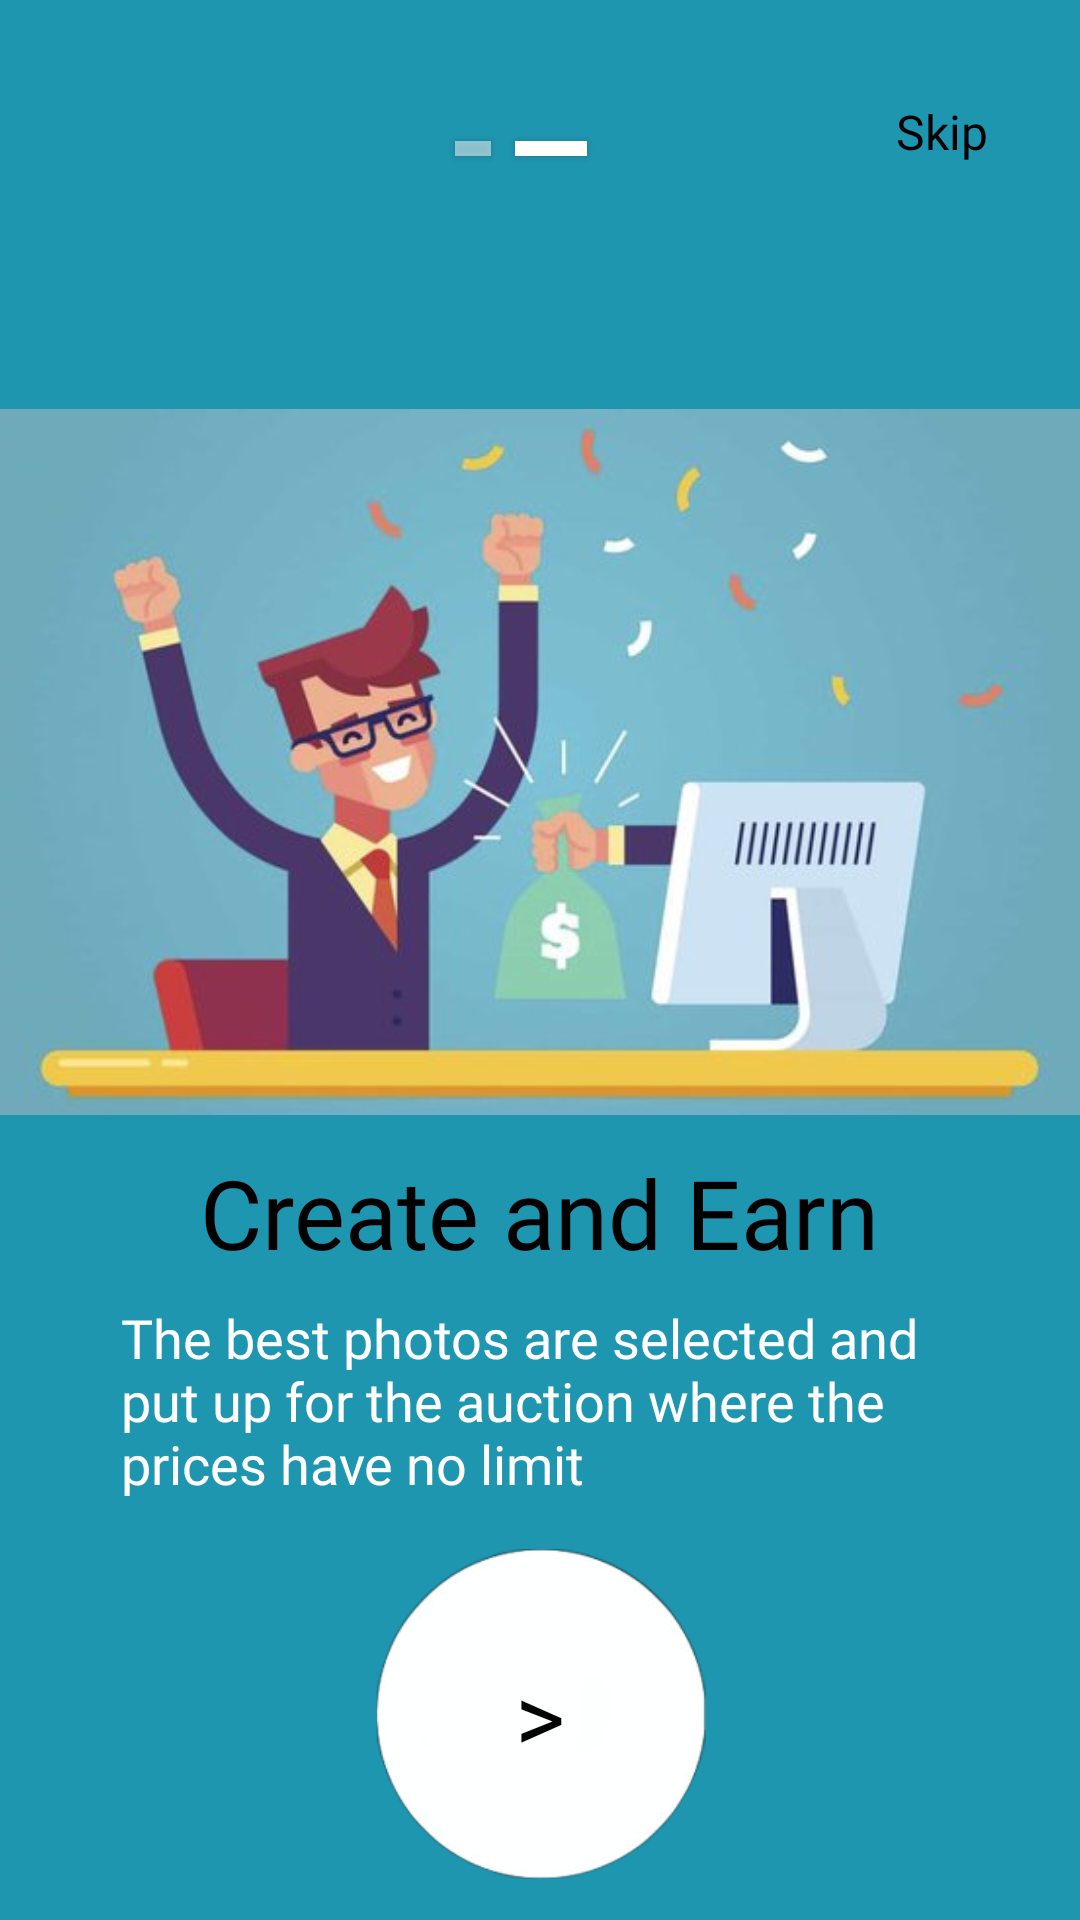

Icon bounding boxes for this 1080 × 1920 phone screenshot, format box(x1, y1, x2, y2):
circle: box(376, 1549, 706, 1879)
